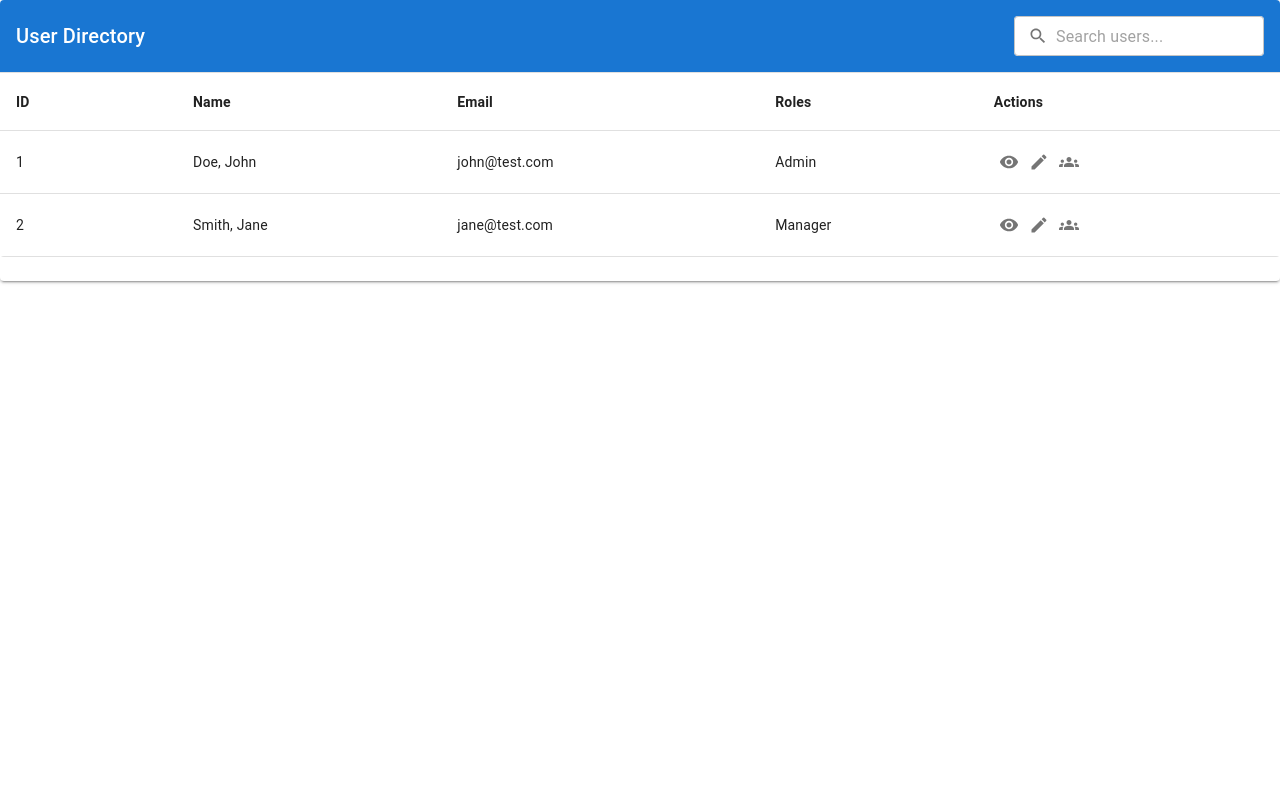
UsersView › should open the edit user modal when edit icon is clicked
Check: the text "Doe, John" is shown, box [177,131,441,194]
What coordinates should you click on to do the following:
click the button named "Edit Profile" in the row of "Doe, John"
I would click on:
 (1039, 162)
Its box is [1024,147,1054,177].
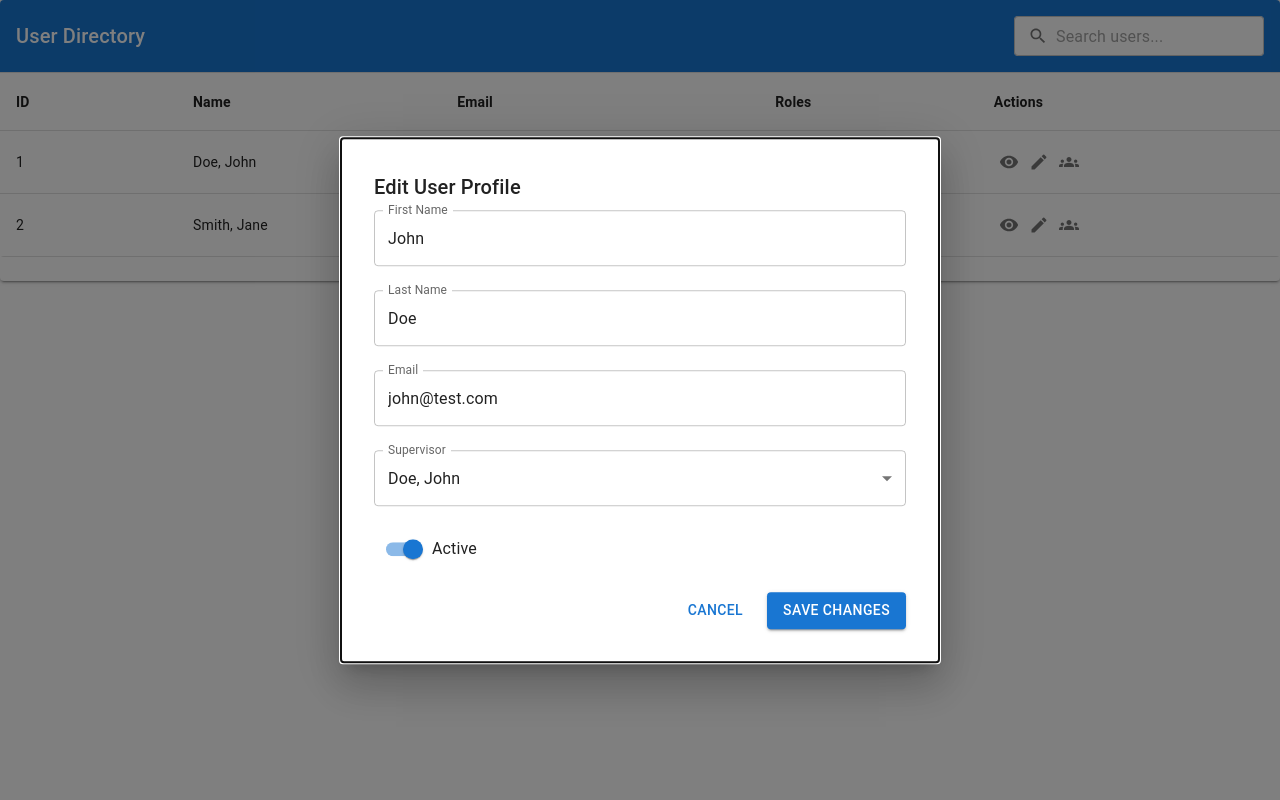
Check: the heading "Edit User Profile" is shown, box [374,175,521,199]
Check: the field labelled "First Name" holds "John", box [374,210,906,266]
